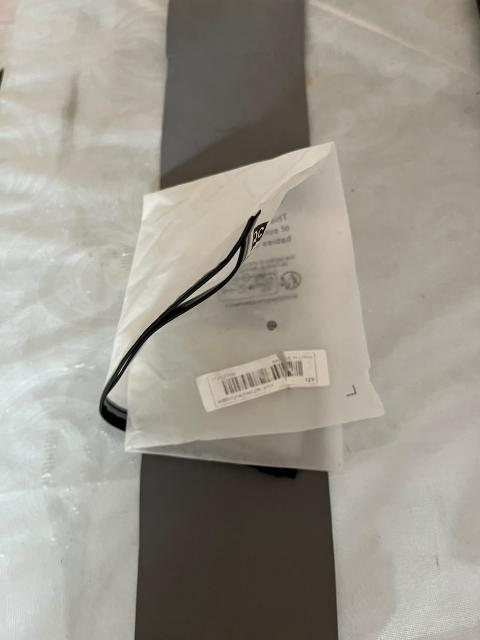LDPE: (89, 136, 444, 558)
